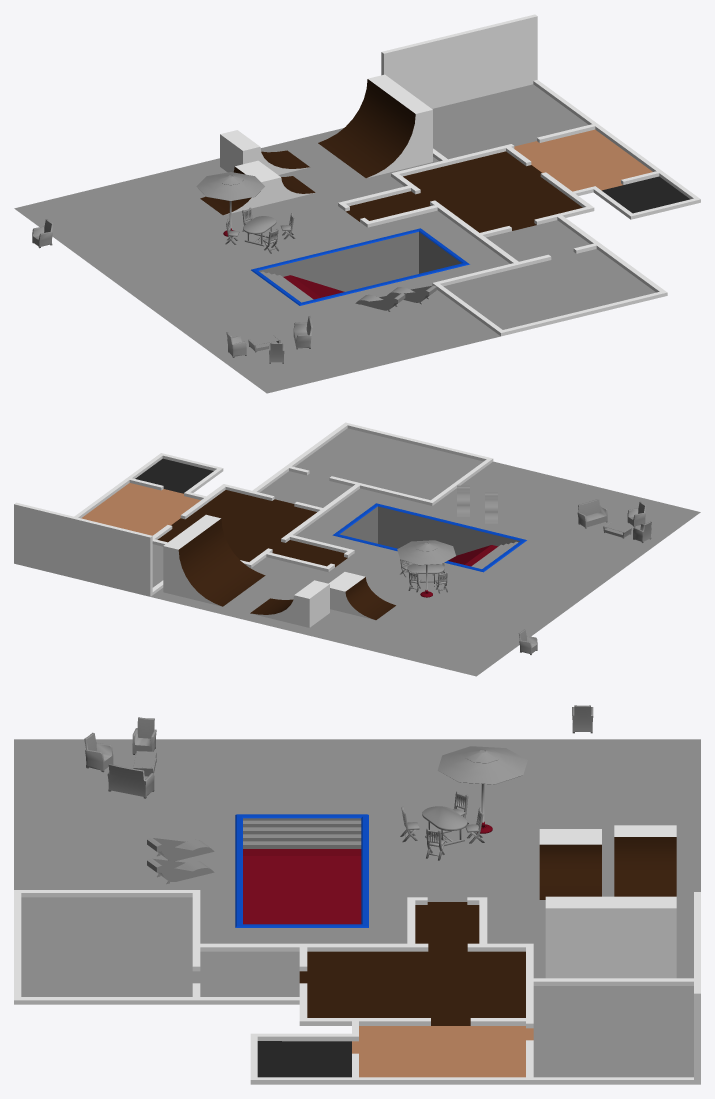
The model's file is Salle_06_b.FBX.
The picture shows the model from 3 angles, top to bottom: view 1: azimuth 30°, elevation 25°; view 2: azimuth 150°, elevation 25°; view 3: azimuth 270°, elevation 25°; orthographic projection. The views are drawn at different scales.
Visible parts, largest first — view 1: Piece_06, Skate_Parc, Piscine, pied-parasole; view 2: Piece_06, Skate_Parc, Piscine, pied-parasole, fauteuil_terrasse01, Line01, Line013; view 3: Piece_06, Skate_Parc, Piscine, Piscine_Escalier, pied-parasole, fauteuil_terrasse01, Line01, Line013, plateau, fauteuil_terrasse003, fauteuil_terrasse002.
Part boxes in pixels (<box>): Piece_06: <box>14,14,700,393</box>; Skate_Parc: <box>200,74,432,215</box>; Piscine: <box>251,228,469,305</box>; pied-parasole: <box>196,172,264,236</box>; Piece_06: <box>14,422,700,676</box>; Skate_Parc: <box>163,514,395,627</box>; Piscine: <box>332,503,526,572</box>; pied-parasole: <box>397,540,455,597</box>; fauteuil_terrasse01: <box>577,499,607,528</box>; Line01: <box>457,485,469,516</box>; Line013: <box>485,492,497,523</box>; Piece_06: <box>14,739,700,1084</box>; Skate_Parc: <box>539,825,676,978</box>; Piscine: <box>235,814,368,927</box>; Piscine_Escalier: <box>243,820,361,848</box>; pied-parasole: <box>437,746,527,833</box>; fauteuil_terrasse01: <box>107,764,154,798</box>; Line01: <box>147,858,214,884</box>; Line013: <box>147,837,214,861</box>; plateau: <box>422,806,467,830</box>; fauteuil_terrasse003: <box>84,732,113,772</box>; fauteuil_terrasse002: <box>132,717,156,754</box>.
Size of the model in its own units: 2547 by 500 by 2055.
